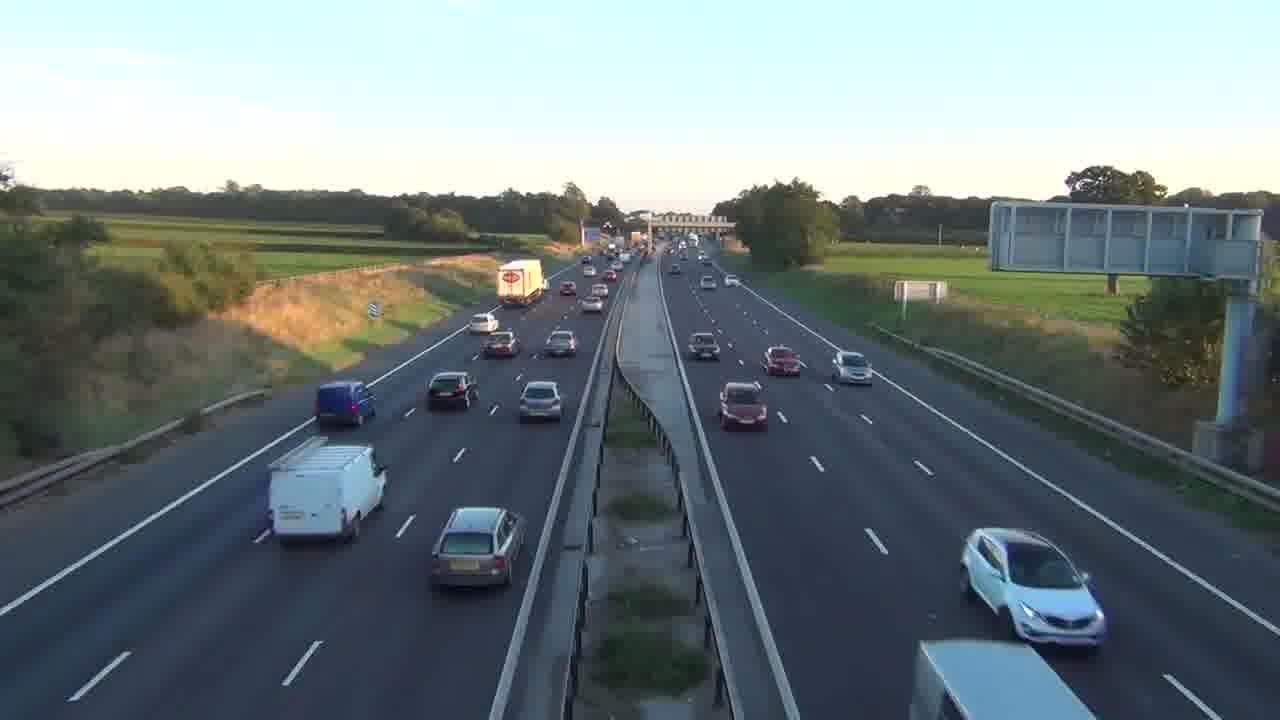car: (959, 526, 1109, 653), (429, 505, 527, 590), (718, 379, 769, 431), (518, 380, 563, 422), (830, 350, 874, 388), (763, 345, 803, 377), (480, 330, 519, 358), (544, 328, 578, 358), (688, 331, 720, 361)
truck: (266, 441, 388, 544), (496, 257, 546, 307)
